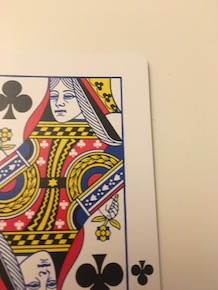QueenOfClubs: (1, 52, 167, 288)
